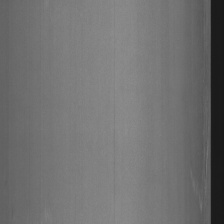silk_spot: (189, 125, 209, 214)
